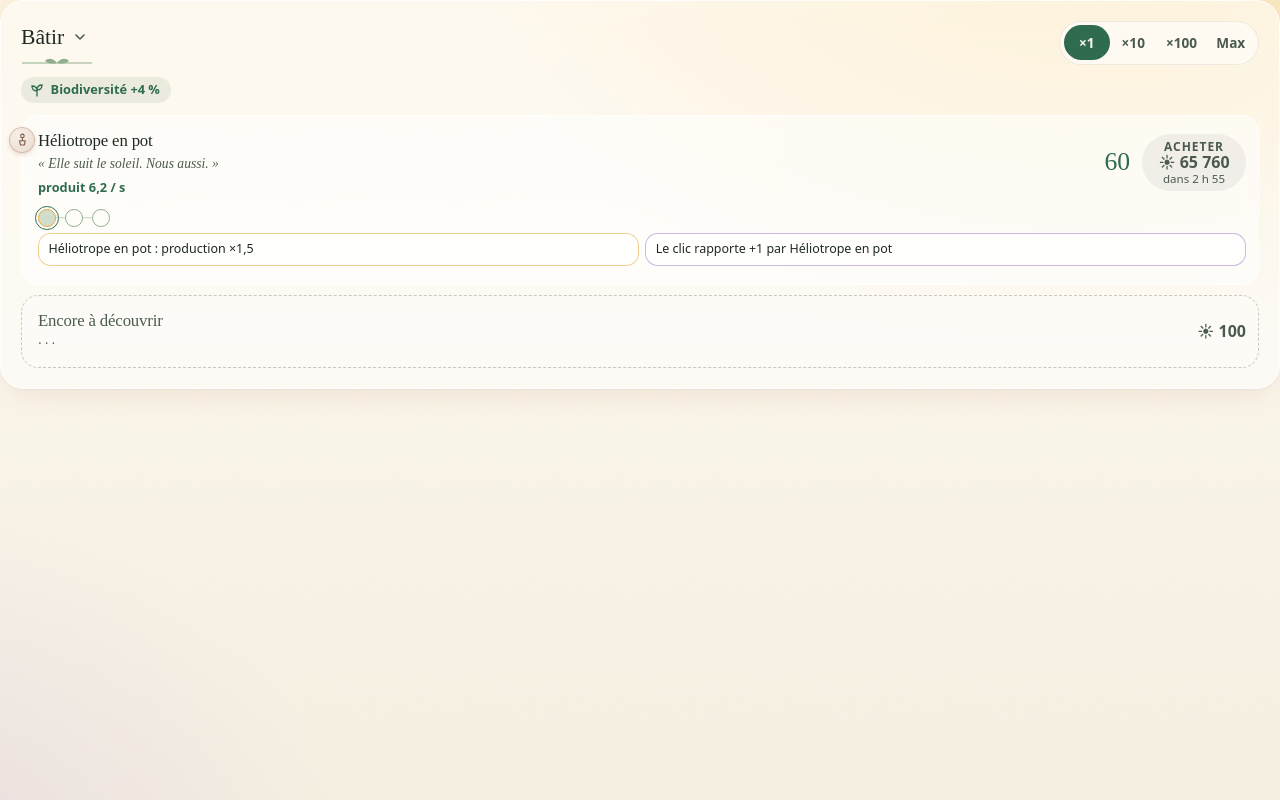
Test: Generators growth pips › opens and closes the two paths of a form from its pip
Click the button named "Mur de pots, dès 100" at (74, 218), box left=65, top=209, right=83, bottom=227
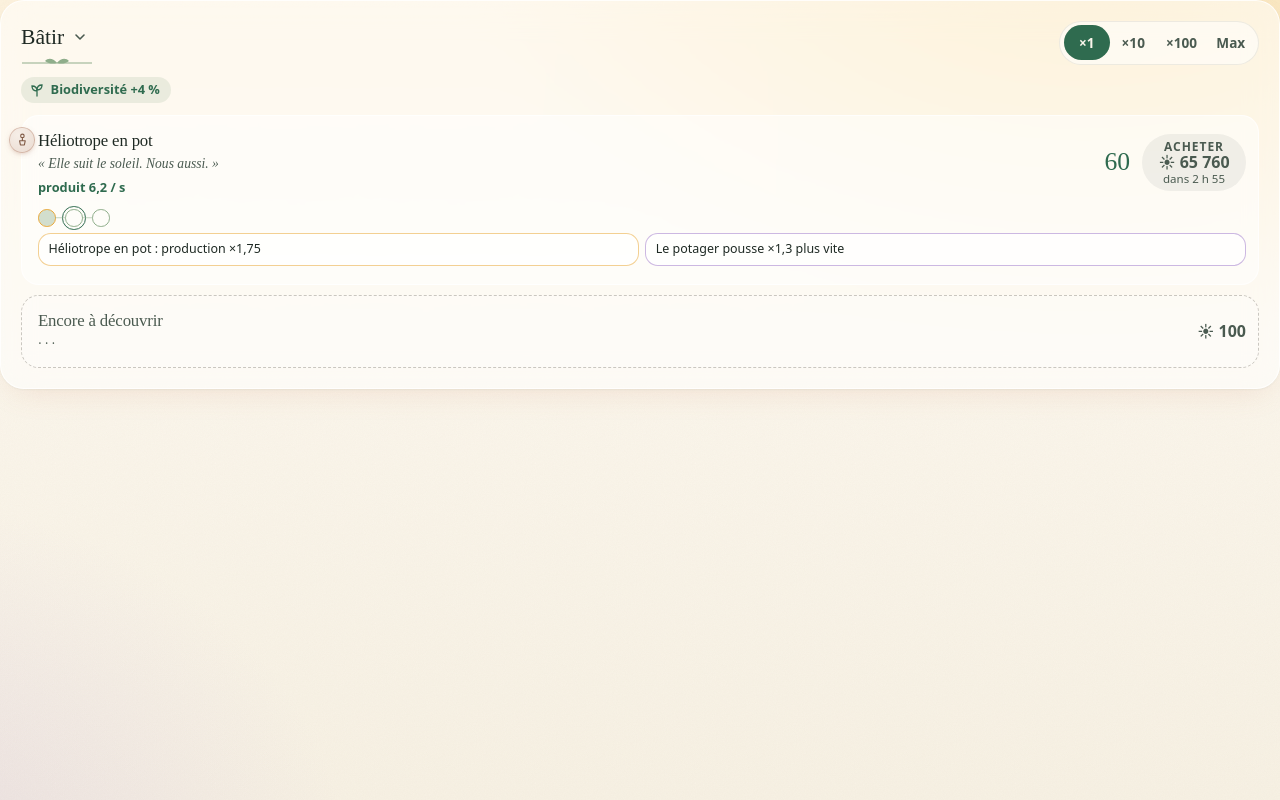
Expected: the button named "Mur de pots, dès 100" is expanded
Expected: the element named "Mur de pots : choisir une voie" is shown, left=38, top=233, right=1246, bottom=272
Click the button named "Mur de pots, dès 100" at (74, 218), box left=65, top=209, right=83, bottom=227
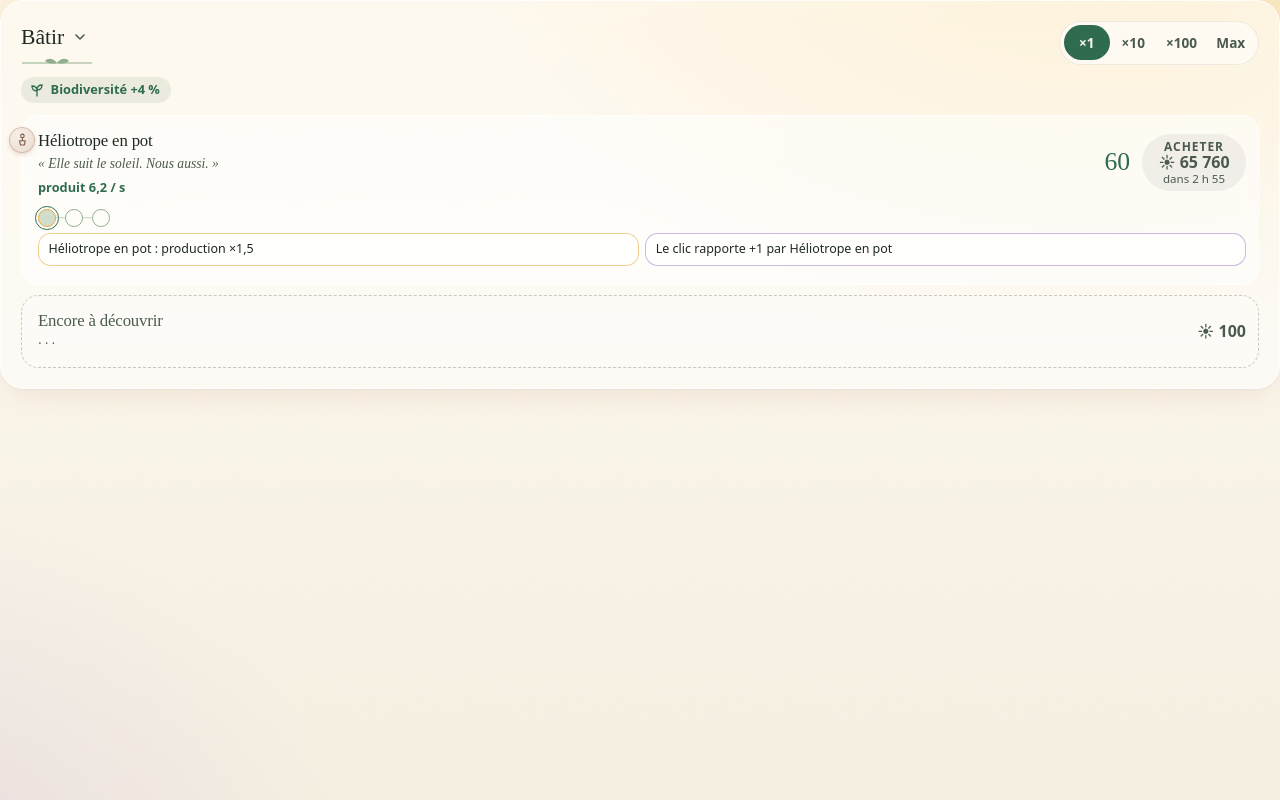
Expected: the button named "Mur de pots, dès 100" is collapsed, left=65, top=209, right=83, bottom=227
